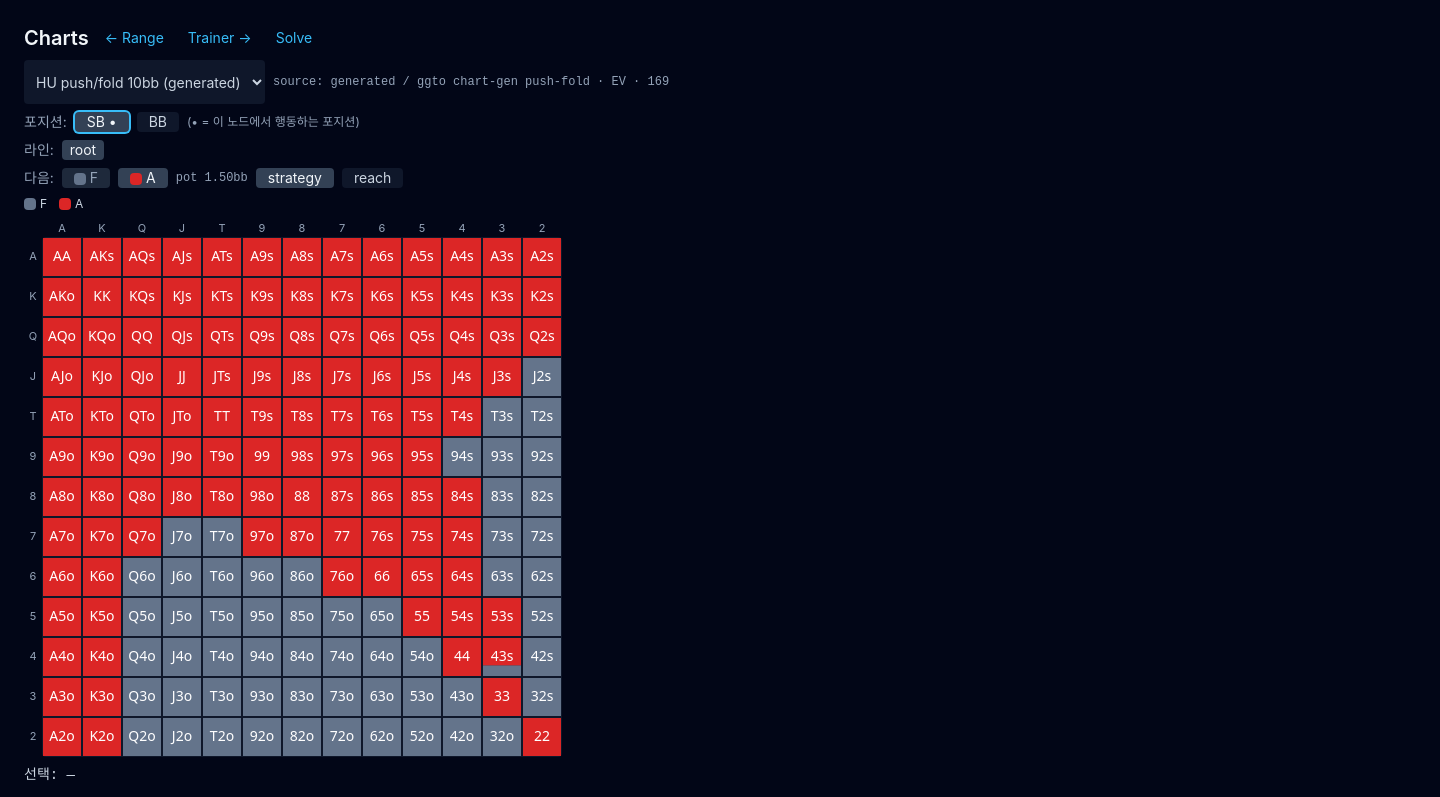
Test: 9 차트 뷰어 › 9 액션 버튼 A 를 누르면 seq=A 노드를 가져오고 BB 탭이 히어로가 된다
This screenshot has width=1440, height=797.
Expected: the table is shown, x1=42 y1=236 x2=562 y2=756
What coordinates should you click on to do the following:
click the button with test id "action-A"
I would click on:
 (143, 178)
Its box is x1=118 y1=168 x2=168 y2=188.
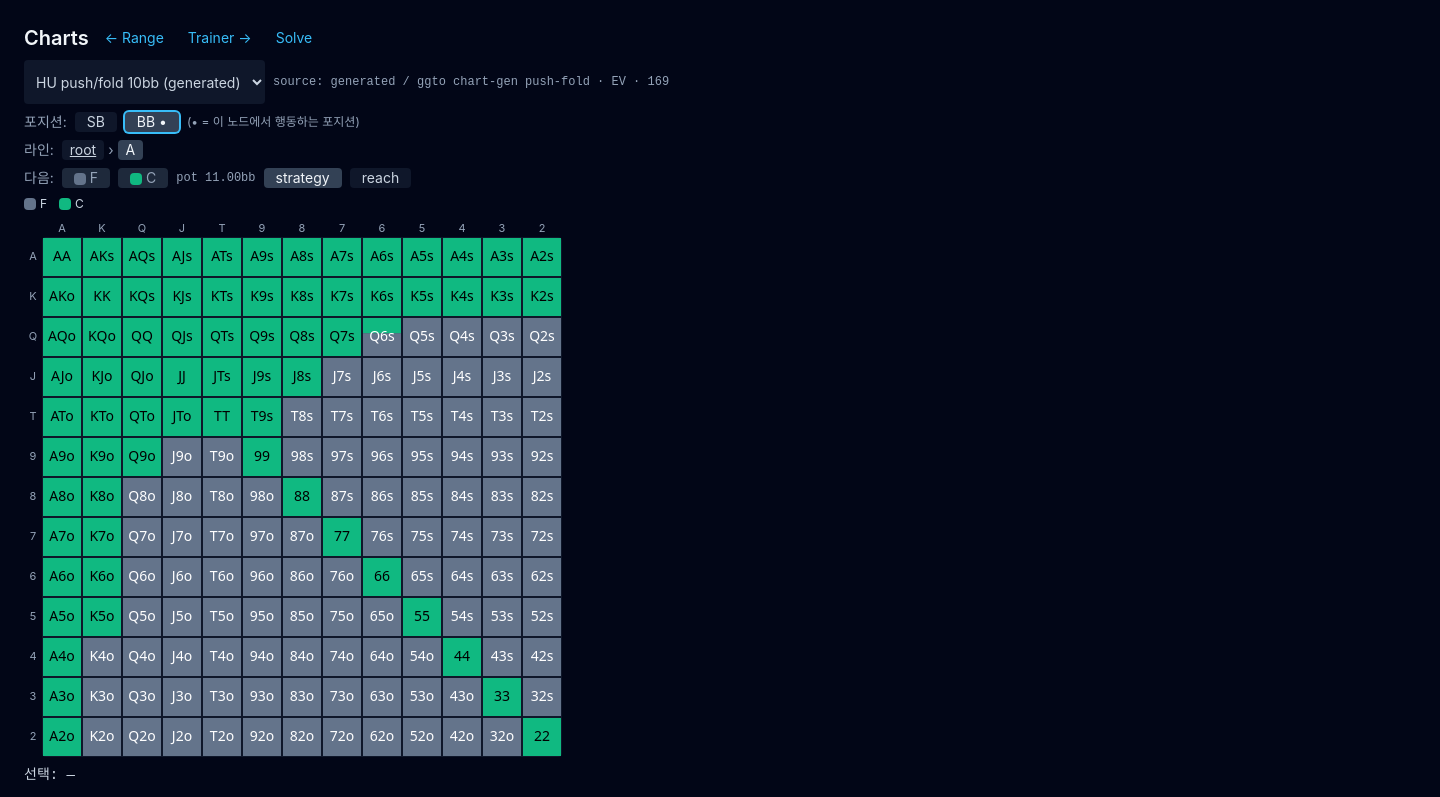
Expected: the button with test id "crumb-root" is shown, x1=62 y1=140 x2=104 y2=160
Expected: the button with test id "pos-tab-BB" shows "•", x1=125 y1=112 x2=179 y2=132
